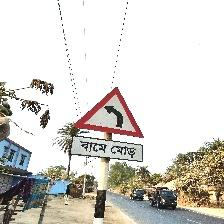Left-Turn: (70, 87, 145, 162)
